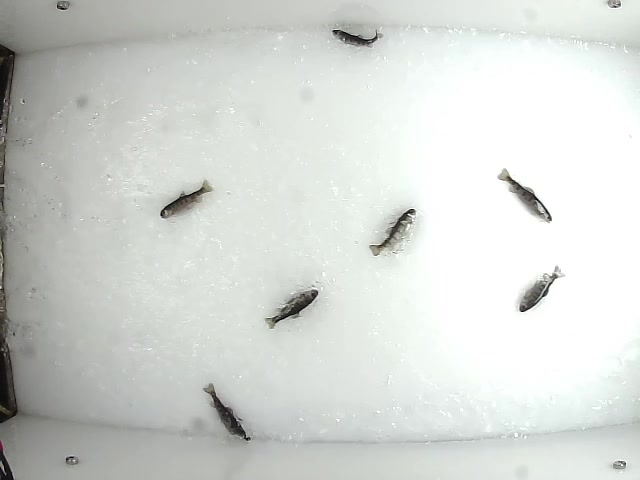fish: (496, 165, 553, 223), (201, 381, 253, 444), (369, 206, 417, 260), (261, 288, 321, 329), (518, 263, 566, 312), (158, 178, 215, 218), (328, 28, 384, 49)
